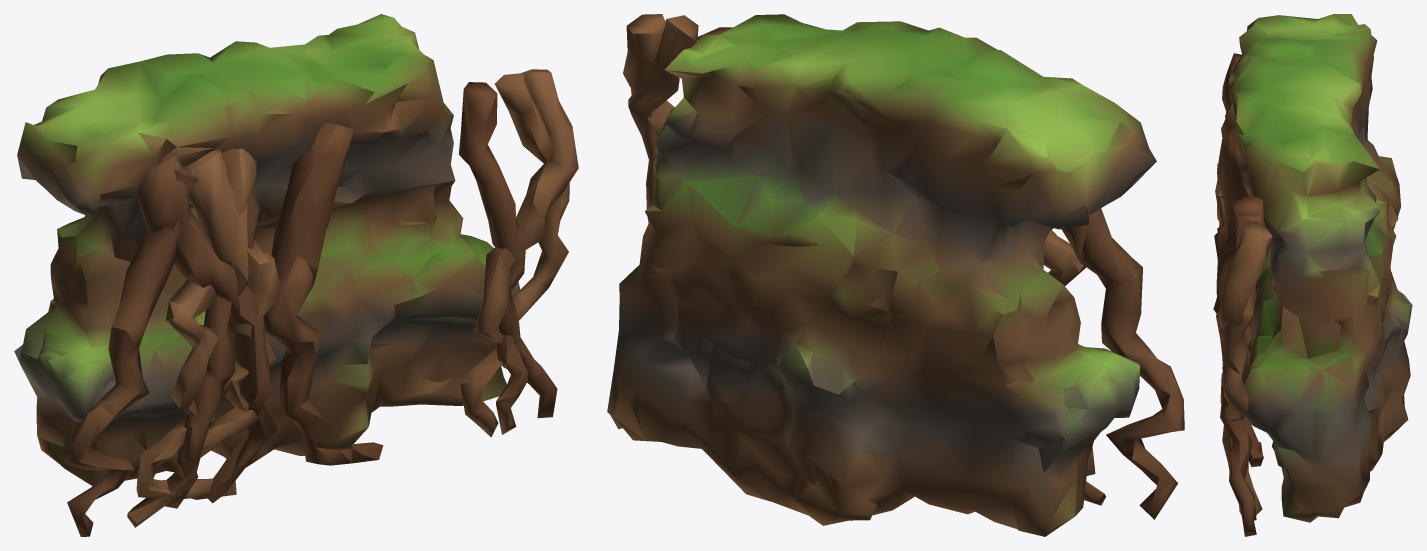
Rendered from glade_root_wall_a_lod1.glb.
3 views of the same model, side by side, from view 1: azimuth 30°, elevation 25°; view 2: azimuth 150°, elevation 25°; view 3: azimuth 270°, elevation 25° (orthographic). The views are drawn at different scales.
Parts seen in each view (by area): view 1: glade_root_wall_a.001; view 2: glade_root_wall_a.001; view 3: glade_root_wall_a.001.
Part boxes in pixels (bbox=[...]): glade_root_wall_a.001: bbox=[14, 14, 578, 536]; glade_root_wall_a.001: bbox=[607, 14, 1184, 536]; glade_root_wall_a.001: bbox=[1213, 14, 1412, 536].
Bounding box in the file's own units: 15.42 × 12.01 × 5.94.
